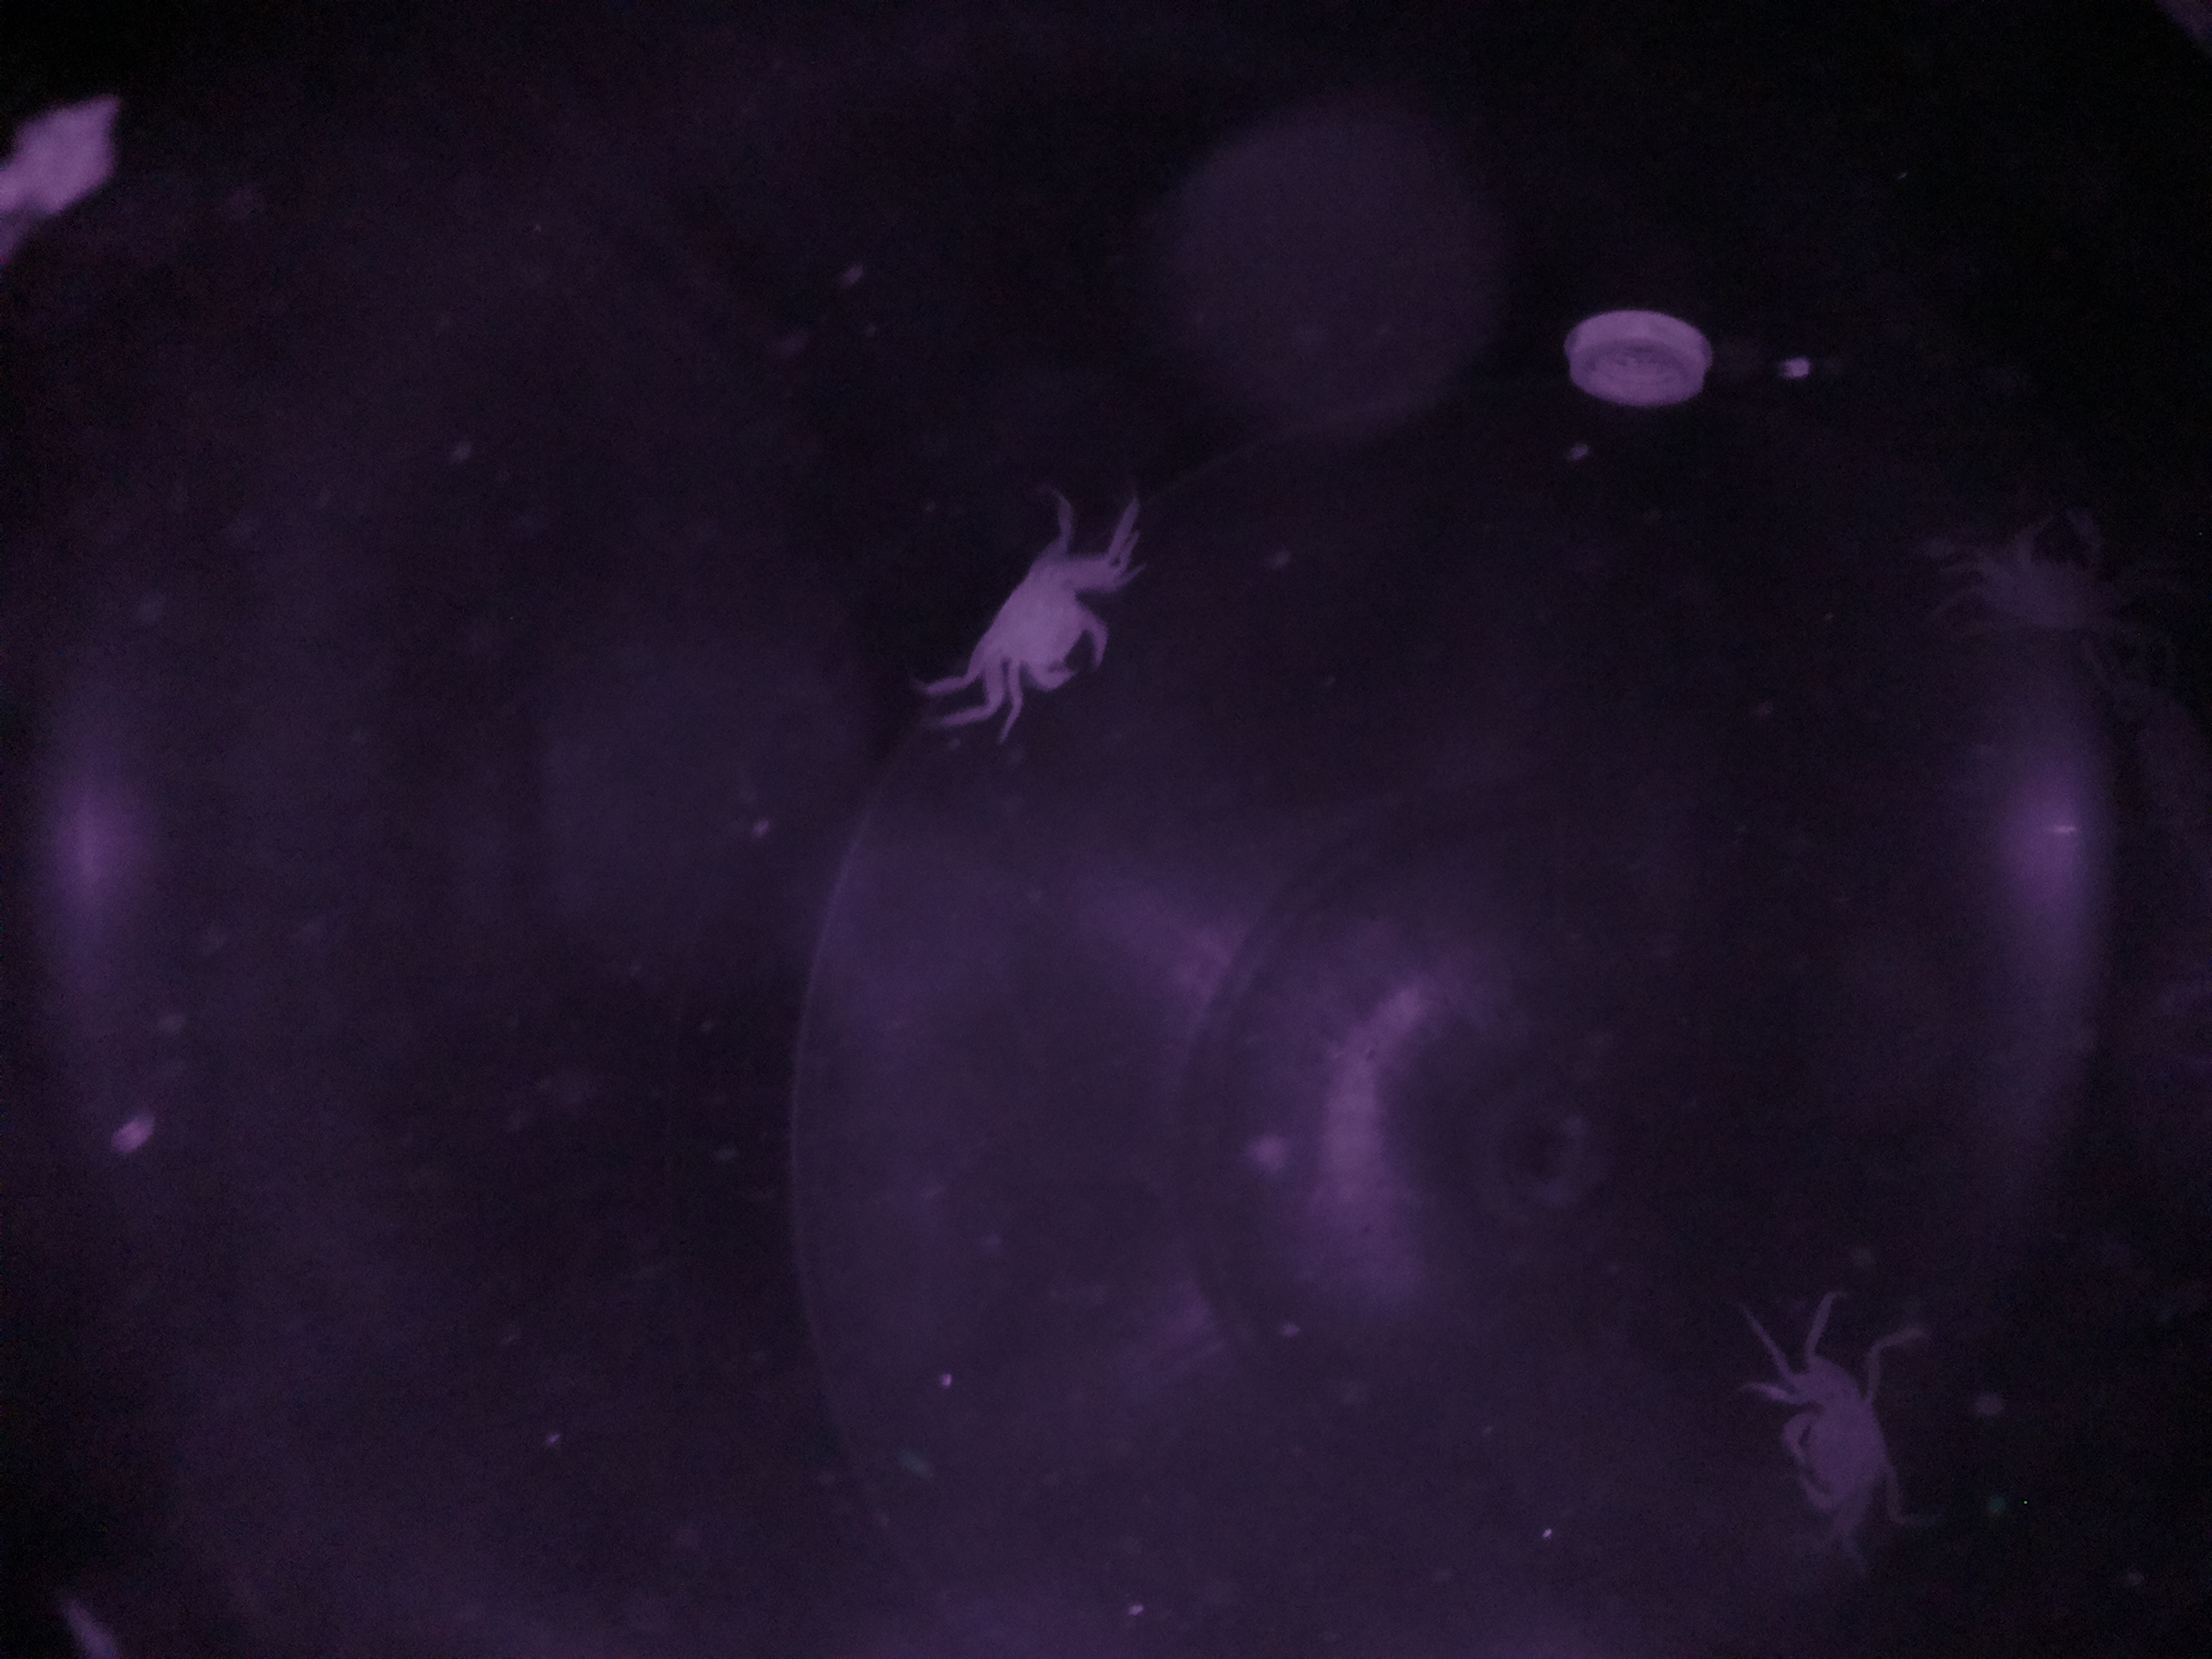Crab: (1750, 1345, 1919, 1572), (949, 525, 1127, 720)
